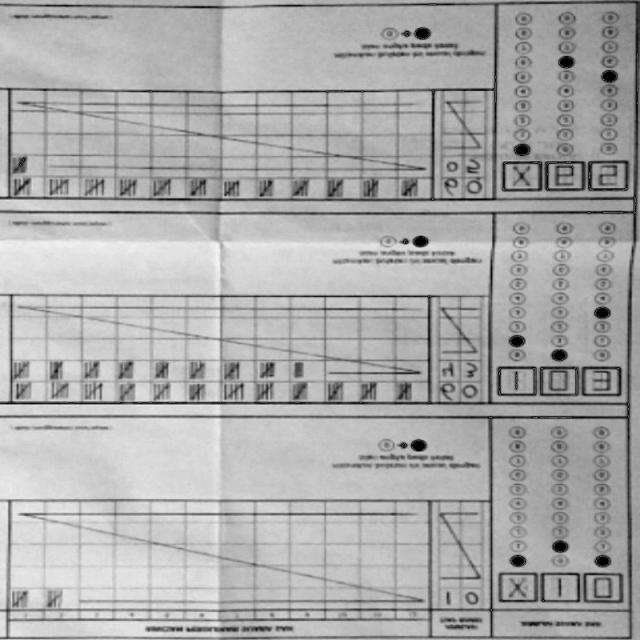Suara: (493, 157, 633, 207), (493, 362, 622, 406), (492, 573, 626, 605)
